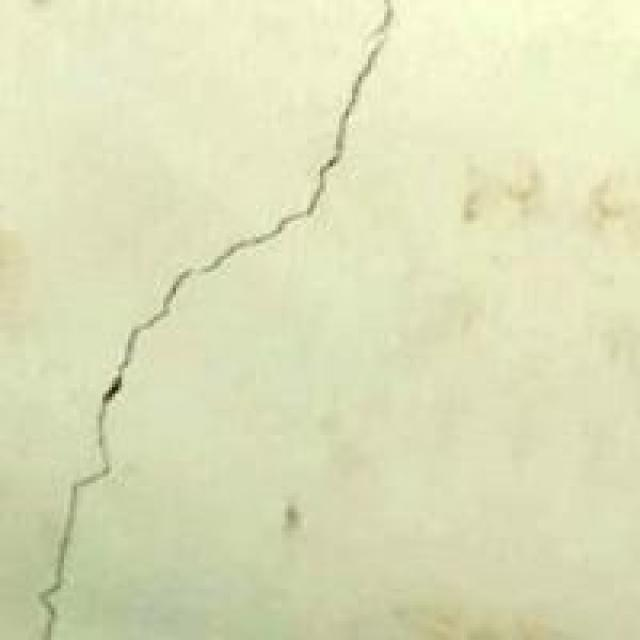Crack: (35, 3, 416, 637)
